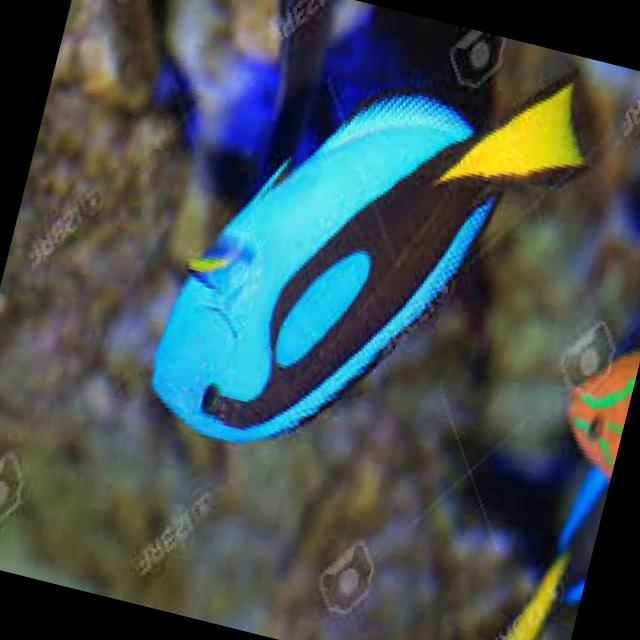BlueTang: (115, 0, 634, 560)
